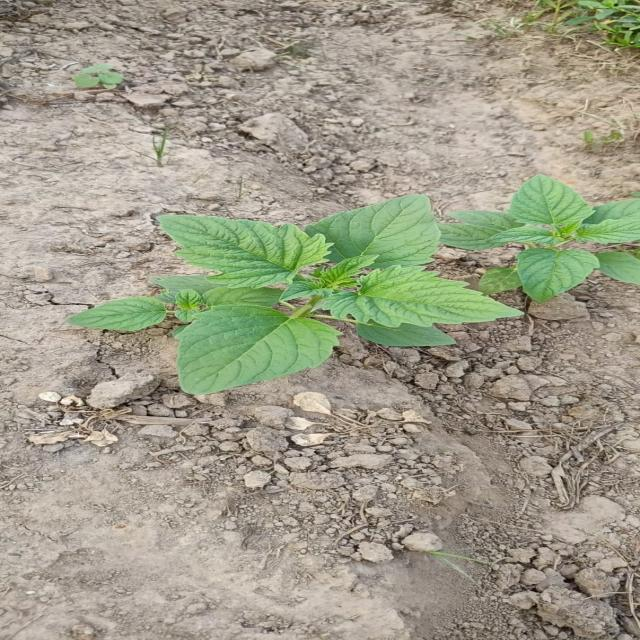plant: (66, 196, 517, 394), (441, 175, 639, 301)
